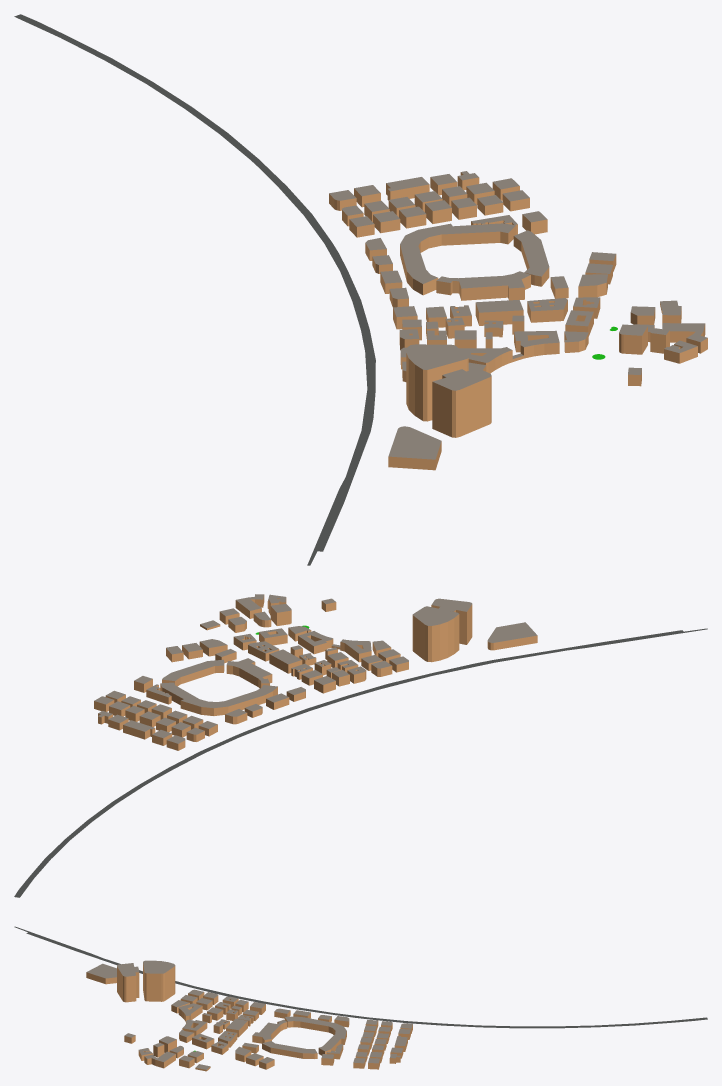
File: demomodel.glb
The picture shows the model from 3 angles, top to bottom: view 1: azimuth 30°, elevation 25°; view 2: azimuth 150°, elevation 25°; view 3: azimuth 270°, elevation 25°; orthographic projection. The views are drawn at different scales.
Parts seen in each view (by area): view 1: map_24.osm_buildings, map_25.osm_buildings, map_24.osm_areas_pedestrian, map_24.osm_areas_footway; view 2: map_24.osm_buildings, map_25.osm_buildings, map_24.osm_areas_pedestrian, map_24.osm_areas_footway; view 3: map_24.osm_buildings, map_25.osm_buildings, map_24.osm_areas_pedestrian, map_24.osm_areas_footway.
Boxes of the visible parts, <box> form: map_24.osm_buildings: <box>329,174,707,470</box>; map_25.osm_buildings: <box>329,171,707,469</box>; map_24.osm_areas_pedestrian: <box>307,243,375,565</box>; map_24.osm_areas_footway: <box>14,14,331,243</box>; map_24.osm_buildings: <box>94,594,537,750</box>; map_25.osm_buildings: <box>94,600,537,750</box>; map_24.osm_areas_pedestrian: <box>234,628,707,737</box>; map_24.osm_areas_footway: <box>14,736,237,897</box>; map_24.osm_buildings: <box>86,960,412,1071</box>; map_25.osm_buildings: <box>86,963,412,1071</box>; map_24.osm_areas_pedestrian: <box>14,926,369,1019</box>; map_24.osm_areas_footway: <box>368,1017,707,1028</box>.
Size of the model in its own units: 902 by 81.25 by 1824.
